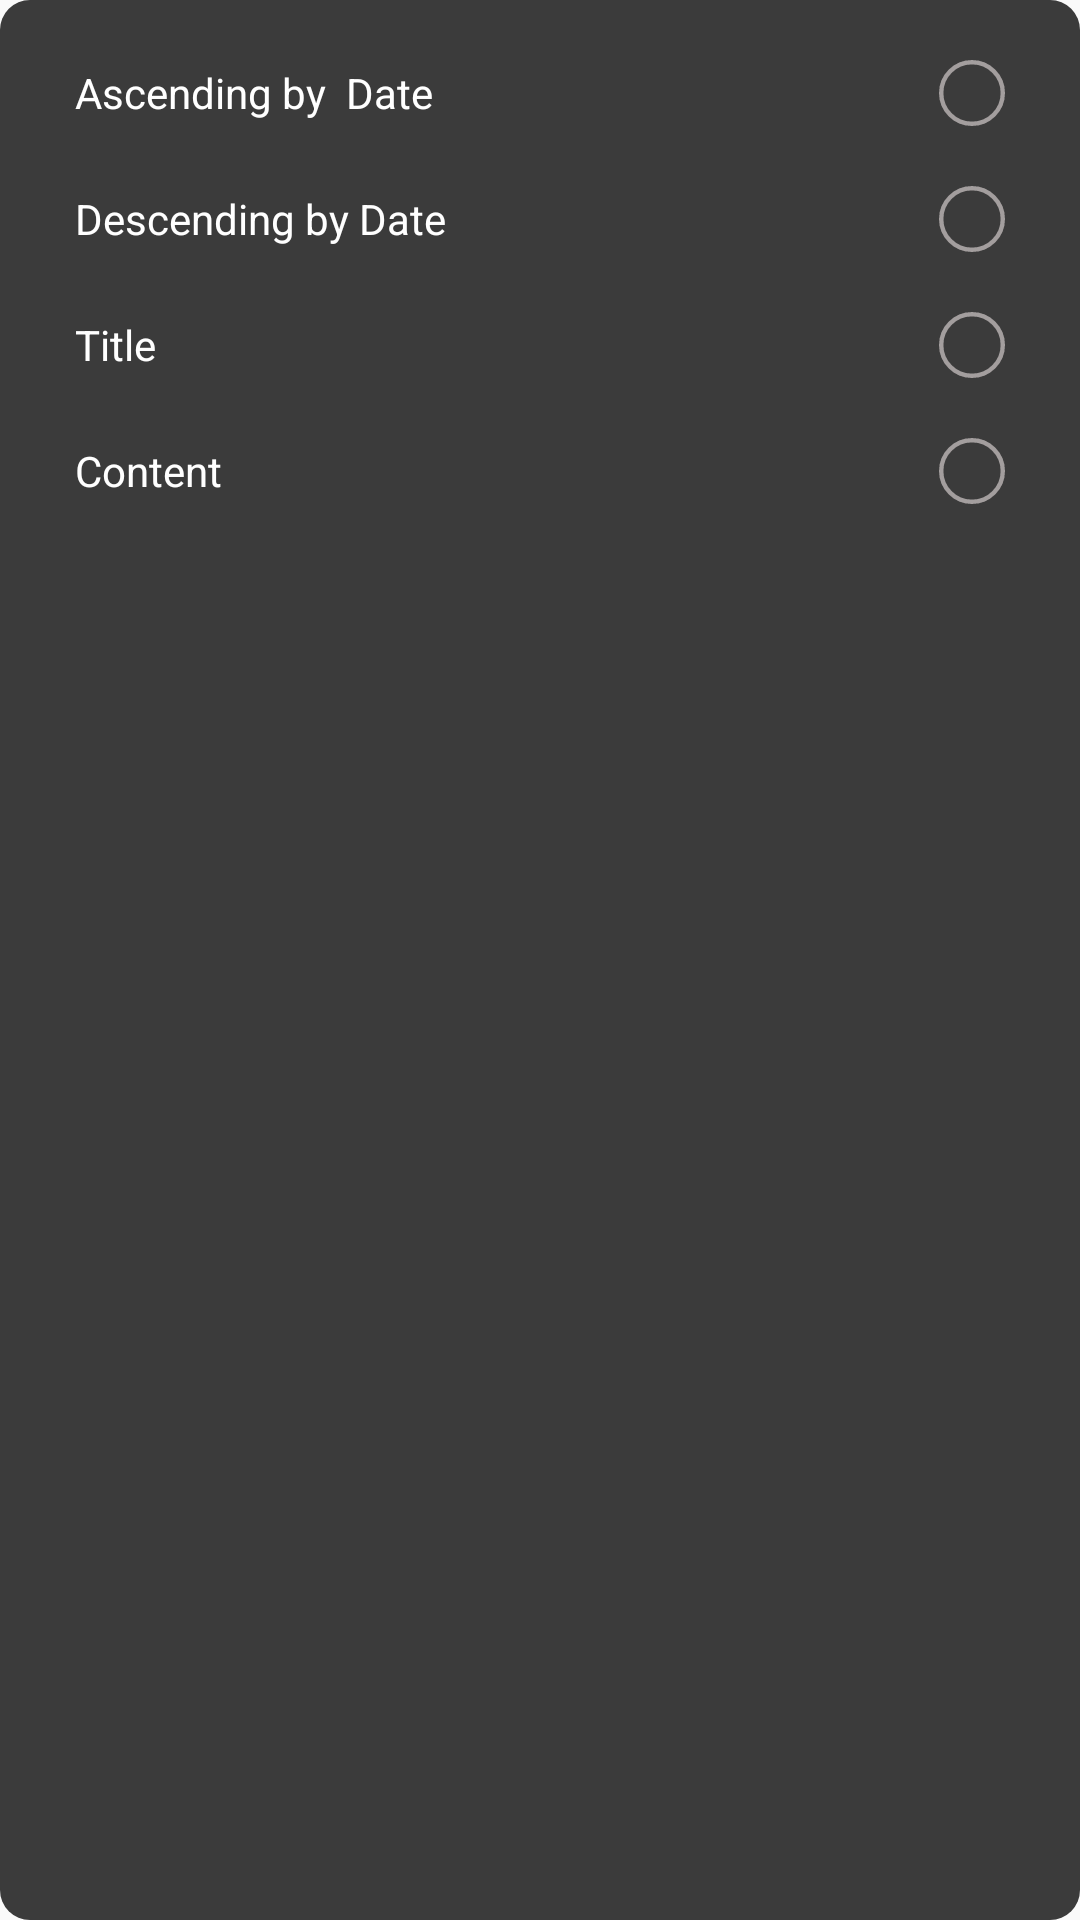

Named icons in this screenshot (1080px x 1920px) and their bounding boxes, bbox=(x1, y1, x2, y2):
radio position: bbox=(939, 60, 1005, 126), bbox=(939, 186, 1005, 252), bbox=(939, 312, 1005, 378), bbox=(939, 438, 1005, 504)
